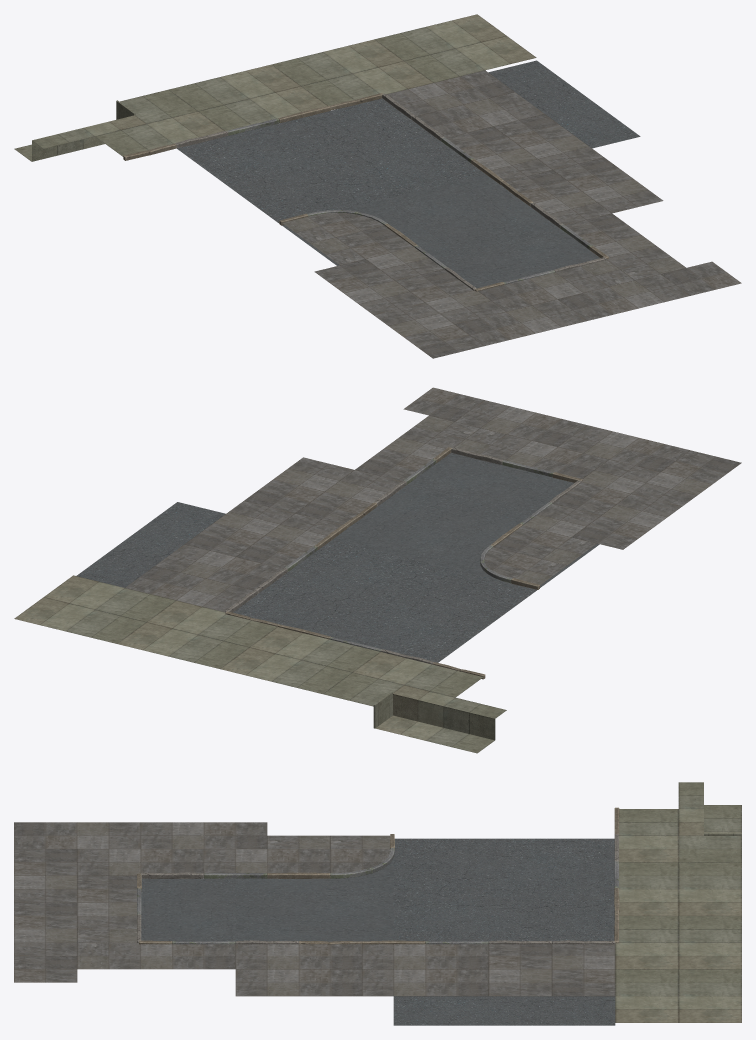
3 renders of one model, top to bottom at view 1: azimuth 30°, elevation 25°; view 2: azimuth 150°, elevation 25°; view 3: azimuth 270°, elevation 25°, orthographic. The views are drawn at different scales.
Parts seen in each view (by area): view 1: Optimized_Scene_02_LOD0; view 2: Optimized_Scene_02_LOD0; view 3: Optimized_Scene_02_LOD0.
Boxes of the visible parts, bbox=[...] form: Optimized_Scene_02_LOD0: bbox=[14, 14, 741, 358]; Optimized_Scene_02_LOD0: bbox=[14, 387, 741, 753]; Optimized_Scene_02_LOD0: bbox=[14, 782, 741, 1025].
Size of what is drawn, in the model's own units: 1800 by 88.27 by 2300.
